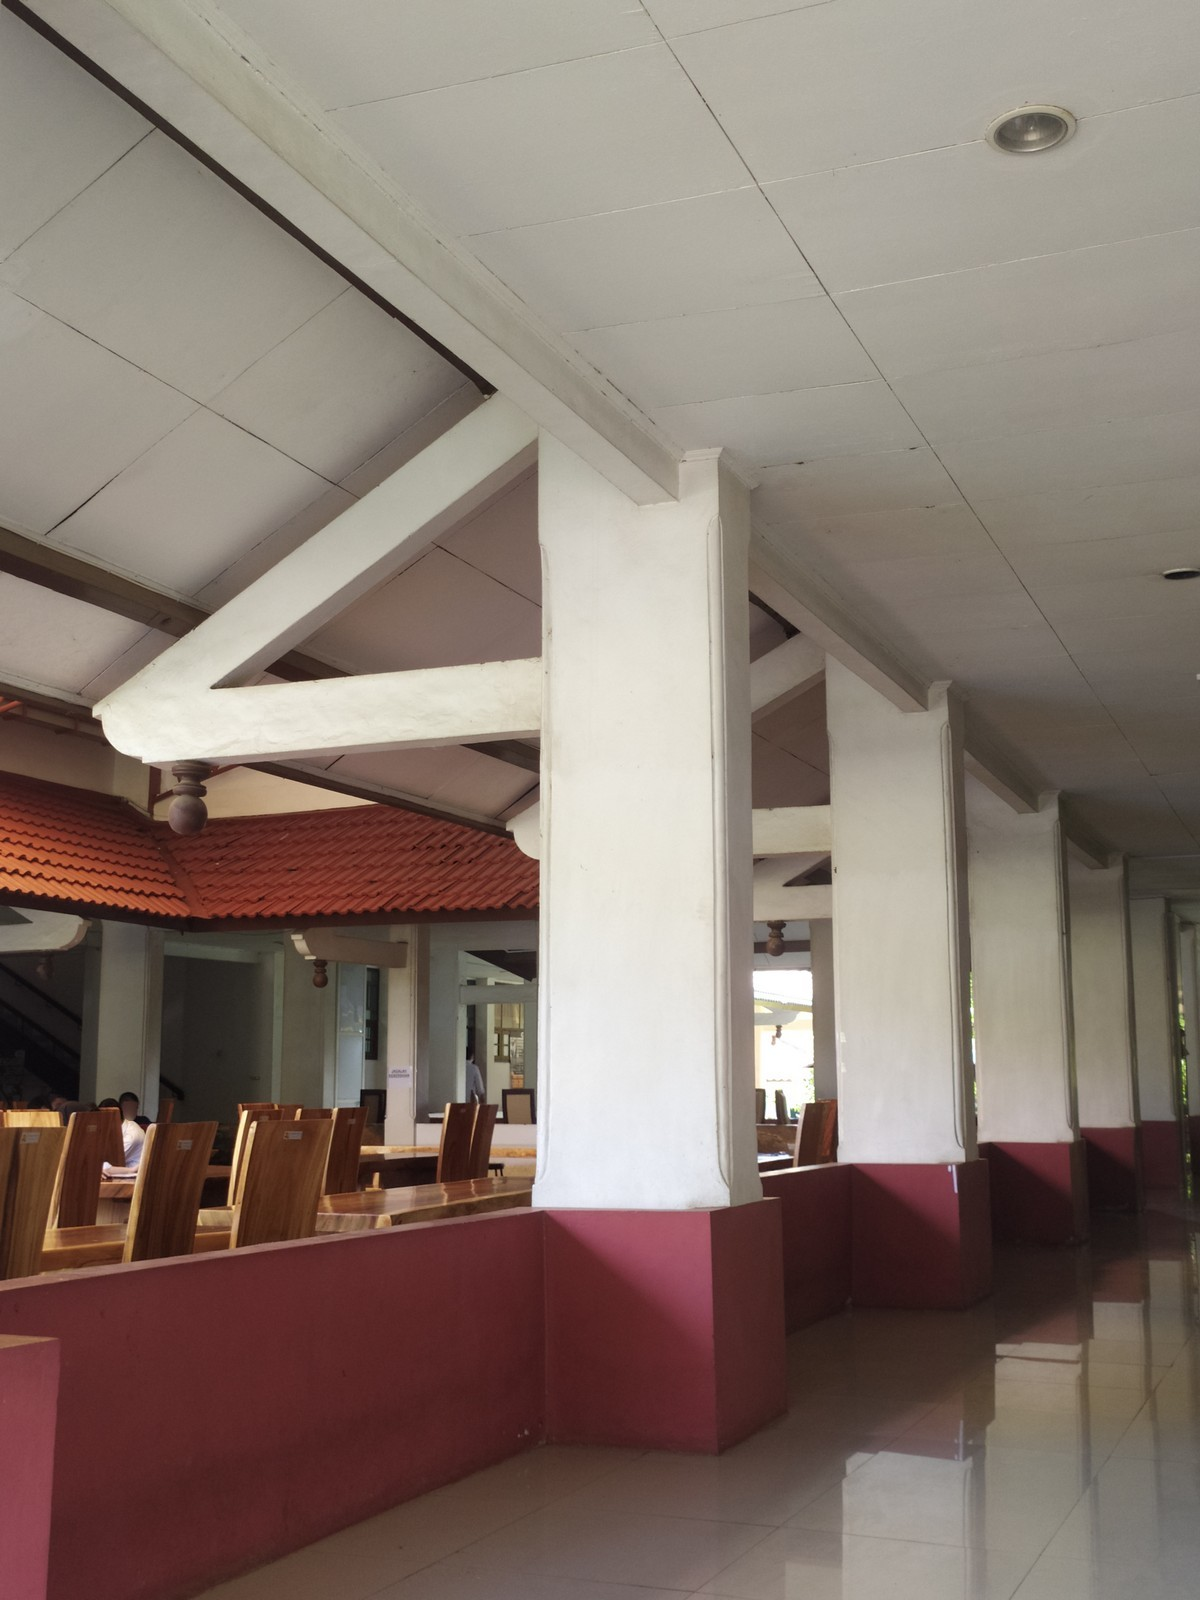concrete beam: (208, 655, 567, 763)
concrete column: (521, 391, 766, 1204), (816, 625, 996, 1167), (976, 772, 1089, 1151), (89, 918, 171, 1125), (373, 929, 439, 1143)
